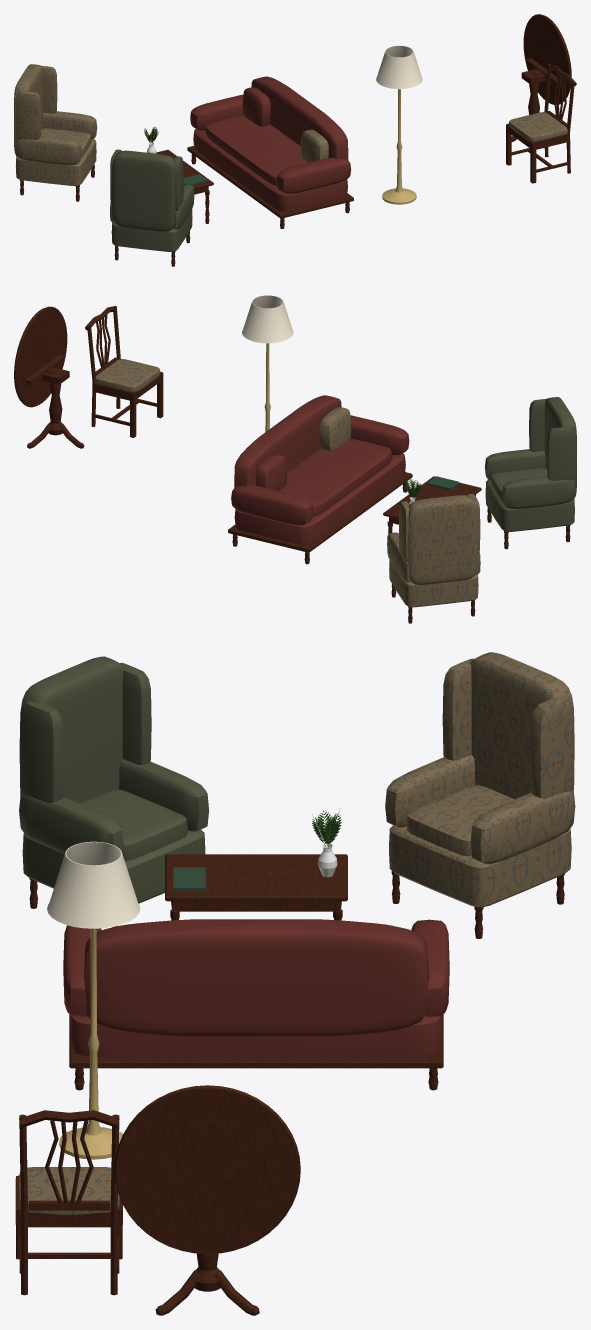
File: room_seance__平日.gltf
3 renders of one model, top to bottom at view 1: azimuth 30°, elevation 25°; view 2: azimuth 150°, elevation 25°; view 3: azimuth 270°, elevation 25°, orthographic. The views are drawn at different scales.
Visible parts, largest first — view 1: 客厅·酒红沙发-col, 客厅·扶手椅B-col, 客厅·扶手椅A-col, 客厅·靠背椅-col, 客厅·翻面圆桌（折起）-col, 客厅·落地灯, 客厅·茶几-col; view 2: 客厅·酒红沙发-col, 客厅·扶手椅A-col, 客厅·扶手椅B-col, 客厅·翻面圆桌（折起）-col, 客厅·靠背椅-col, 客厅·落地灯, 客厅·茶几-col; view 3: 客厅·酒红沙发-col, 客厅·扶手椅A-col, 客厅·扶手椅B-col, 客厅·翻面圆桌（折起）-col, 客厅·靠背椅-col, 客厅·茶几-col, 客厅·落地灯, 客厅·茶几上的书与蕨叶盆.
Boxes of the visible parts, left/top/right/bottom form: 客厅·酒红沙发-col: left=187, top=76, right=353, bottom=228; 客厅·扶手椅B-col: left=110, top=149, right=194, bottom=266; 客厅·扶手椅A-col: left=14, top=64, right=97, bottom=201; 客厅·靠背椅-col: left=506, top=64, right=576, bottom=183; 客厅·翻面圆桌（折起）-col: left=511, top=14, right=571, bottom=141; 客厅·落地灯: left=376, top=45, right=422, bottom=204; 客厅·茶几-col: left=156, top=149, right=213, bottom=223; 客厅·酒红沙发-col: left=228, top=395, right=412, bottom=564; 客厅·扶手椅A-col: left=387, top=494, right=480, bottom=623; 客厅·扶手椅B-col: left=484, top=397, right=576, bottom=549; 客厅·翻面圆桌（折起）-col: left=14, top=306, right=84, bottom=448; 客厅·靠背椅-col: left=85, top=306, right=163, bottom=437; 客厅·落地灯: left=242, top=295, right=293, bottom=431; 客厅·茶几-col: left=383, top=476, right=481, bottom=557; 客厅·酒红沙发-col: left=63, top=919, right=449, bottom=1090; 客厅·扶手椅A-col: left=385, top=652, right=575, bottom=938; 客厅·扶手椅B-col: left=19, top=656, right=209, bottom=927; 客厅·翻面圆桌（折起）-col: left=114, top=1085, right=300, bottom=1315; 客厅·靠背椅-col: left=15, top=1110, right=122, bottom=1295; 客厅·茶几-col: left=165, top=854, right=347, bottom=920; 客厅·落地灯: left=47, top=841, right=140, bottom=1159; 客厅·茶几上的书与蕨叶盆: left=173, top=843, right=337, bottom=891.
Bounding box in the file's own units: 5.29 × 1.58 × 2.75.
Materials: 10 (3 with a texture image).
